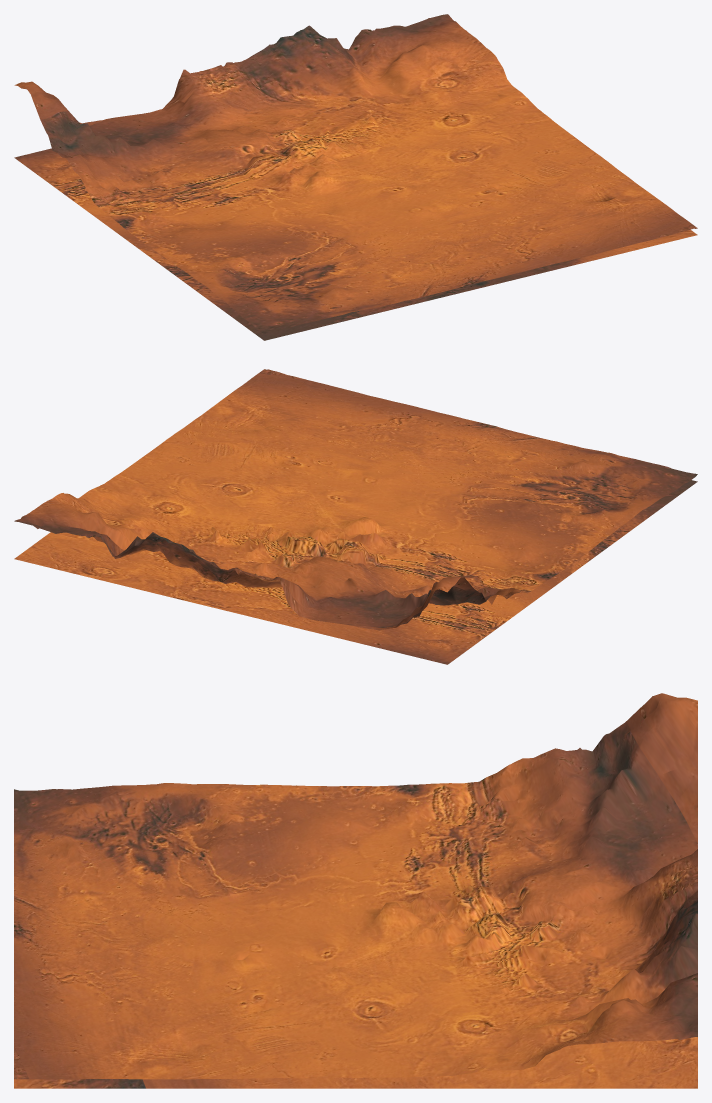
The model's file is mars.glb.
The picture shows the model from 3 angles, top to bottom: view 1: azimuth 30°, elevation 25°; view 2: azimuth 150°, elevation 25°; view 3: azimuth 270°, elevation 25°; orthographic projection. The views are drawn at different scales.
Parts seen in each view (by area): view 1: Mars - Spirit Landing Site; view 2: Mars - Spirit Landing Site; view 3: Mars - Spirit Landing Site.
Part boxes in pixels (box(x1,y1,x2,y2)): Mars - Spirit Landing Site: box(14, 14, 697, 340); Mars - Spirit Landing Site: box(14, 369, 697, 664); Mars - Spirit Landing Site: box(14, 693, 697, 1088).
Size of the model in its own units: 60.09 by 10.33 by 60.09.
Materials: 1 (1 with a texture image).
